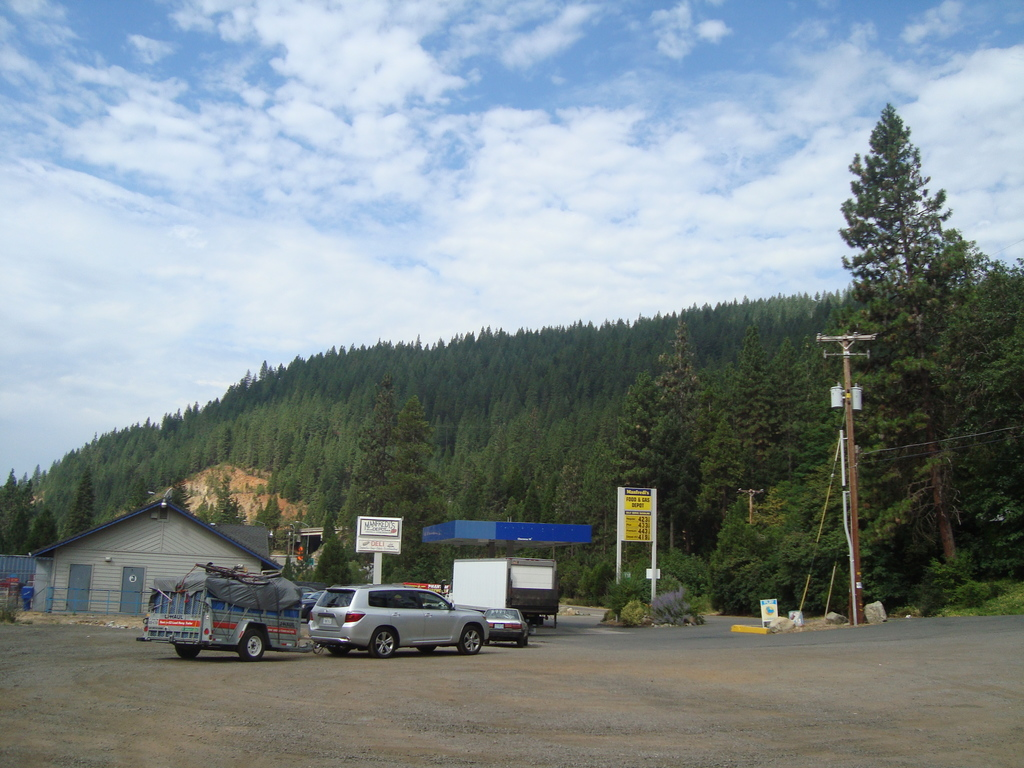Car: (301, 577, 493, 661), (483, 606, 530, 648), (301, 591, 324, 620), (302, 584, 311, 597)
